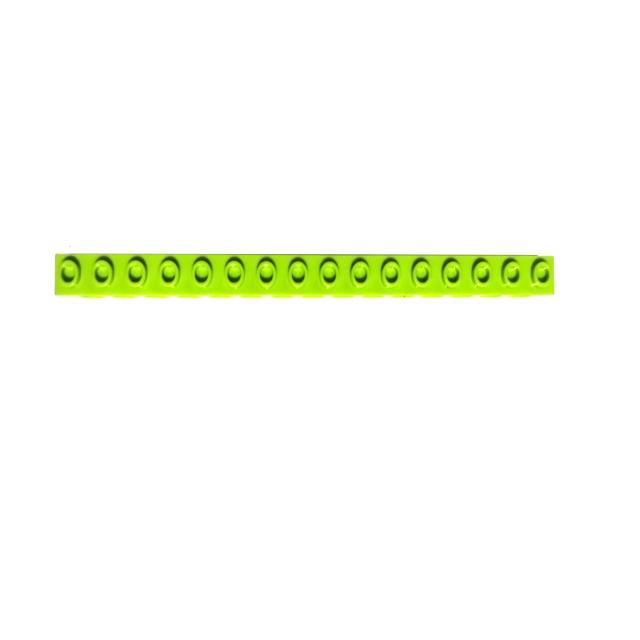Green_Large: (52, 252, 557, 303)
